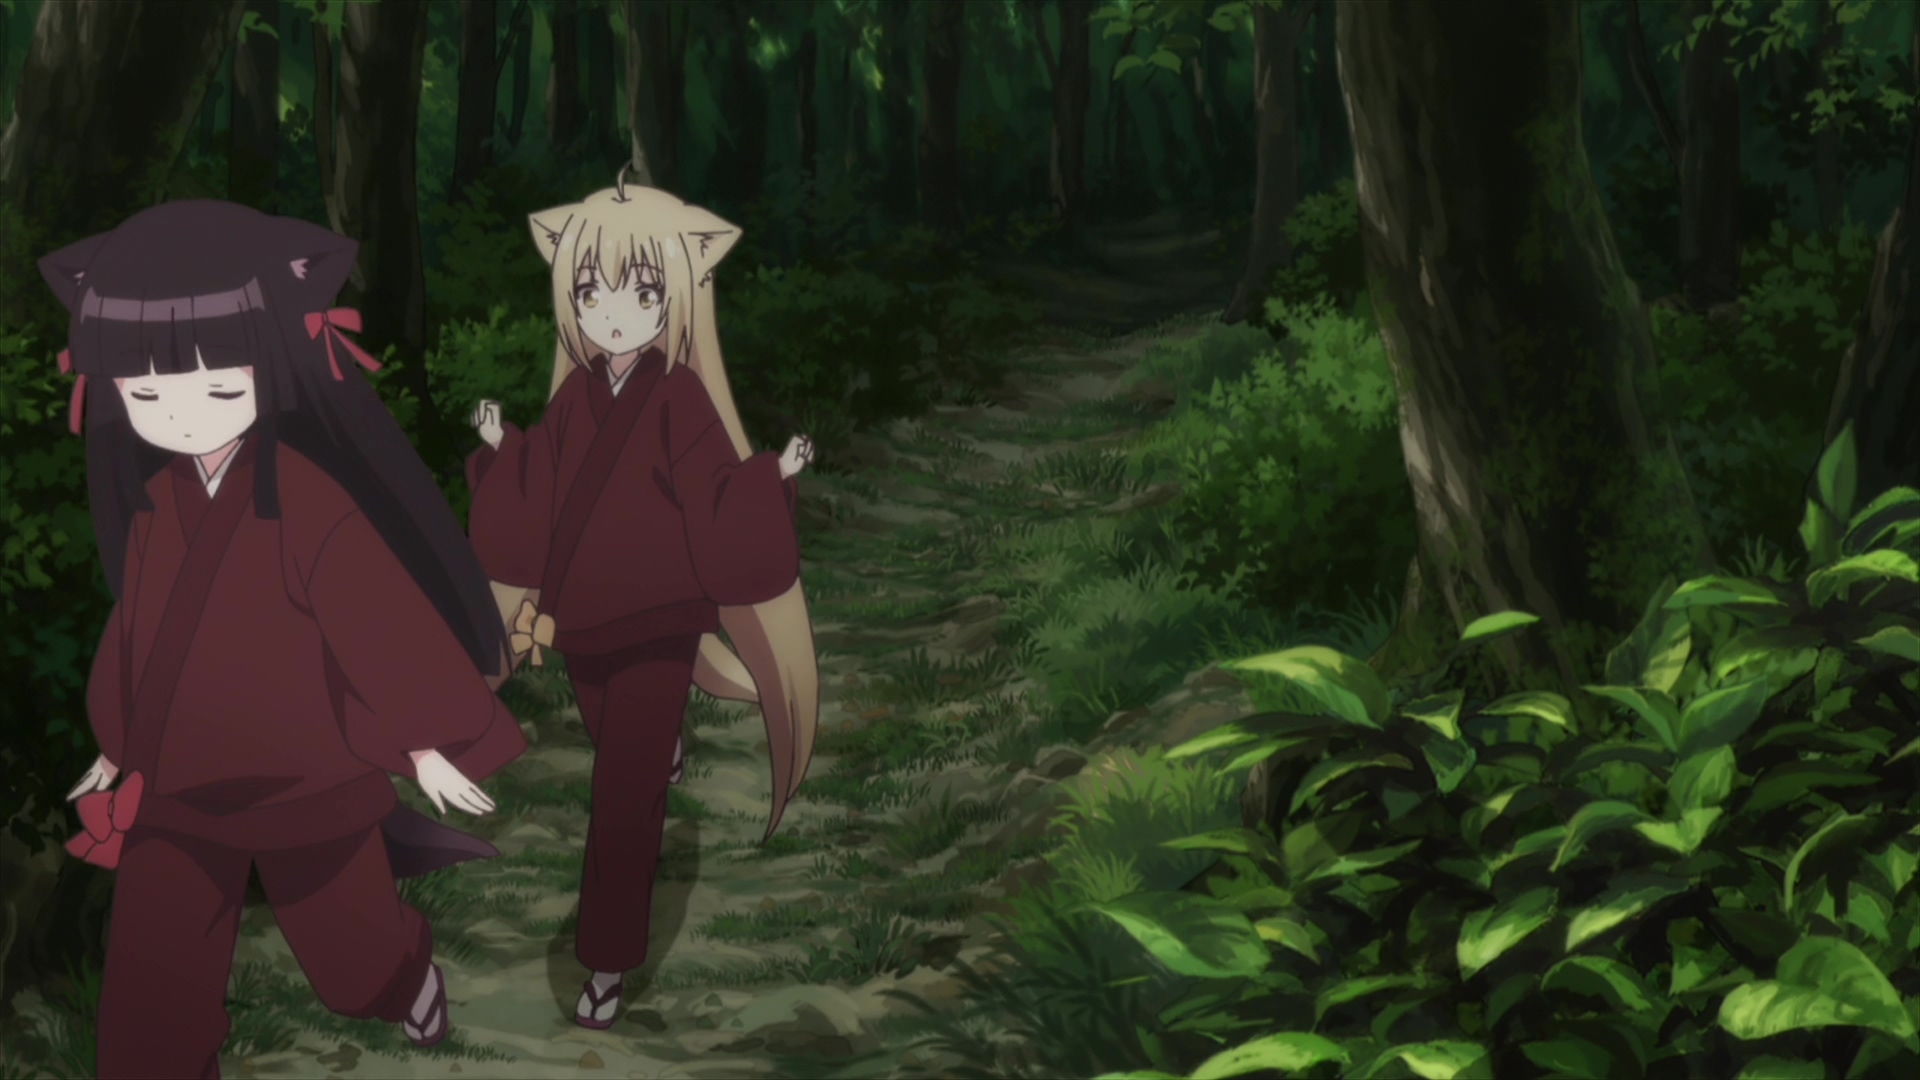柚: (469, 165, 822, 1027)
樱: (36, 198, 527, 1080)
